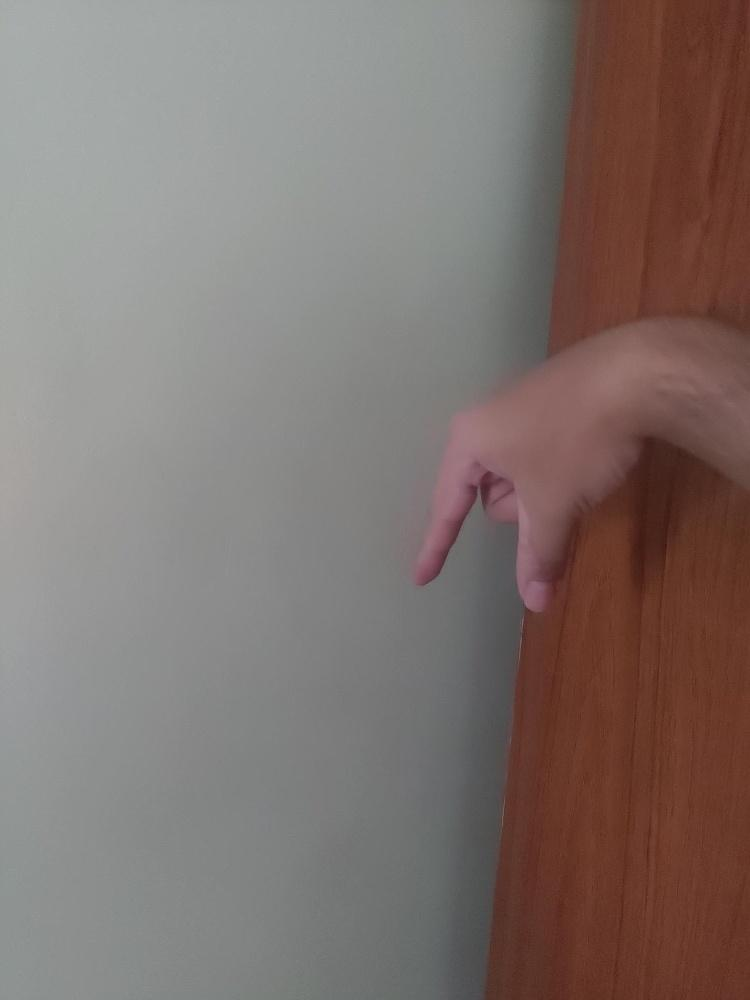q: (407, 316, 651, 610)
